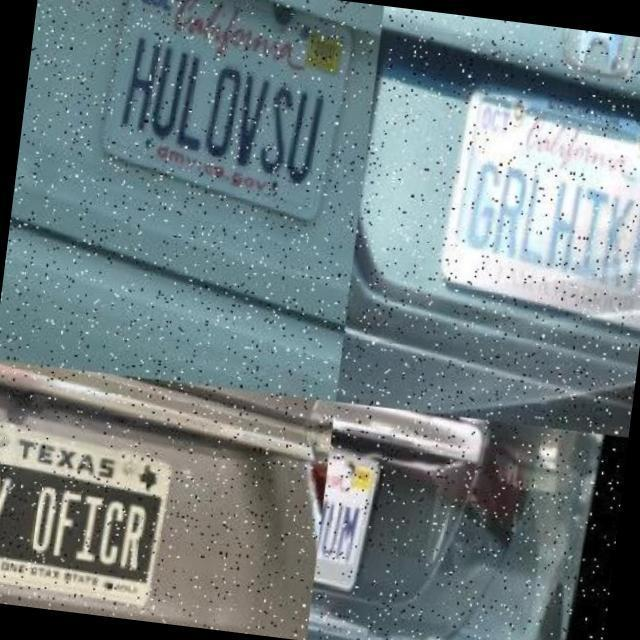License Plate: (90, 0, 362, 232), (428, 74, 640, 334), (0, 416, 174, 598), (313, 437, 399, 591)
